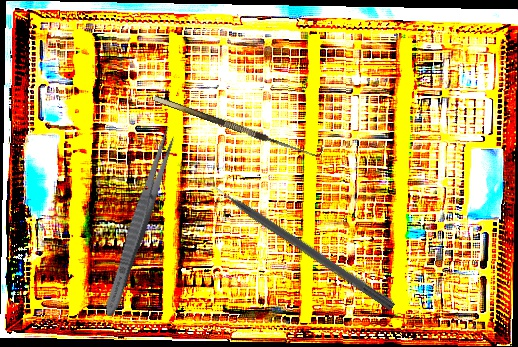Dressing Forceps: (99, 124, 180, 320)
Hook Surgical: (153, 86, 324, 162)
Pusher: (200, 173, 398, 312)
